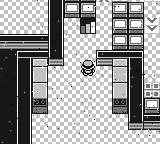main: (81, 61, 95, 75)
no-caminable: (1, 50, 17, 143), (113, 2, 143, 50), (17, 58, 30, 143), (129, 58, 143, 129), (48, 0, 63, 66), (96, 51, 142, 66), (1, 35, 48, 49), (64, 0, 95, 17), (113, 83, 128, 113), (32, 84, 47, 113), (32, 58, 47, 83), (112, 59, 128, 82), (144, 98, 160, 114), (144, 115, 160, 129), (18, 51, 48, 58), (32, 99, 47, 113)
puerta: (80, 18, 96, 34)
salto: (144, 17, 159, 31)
